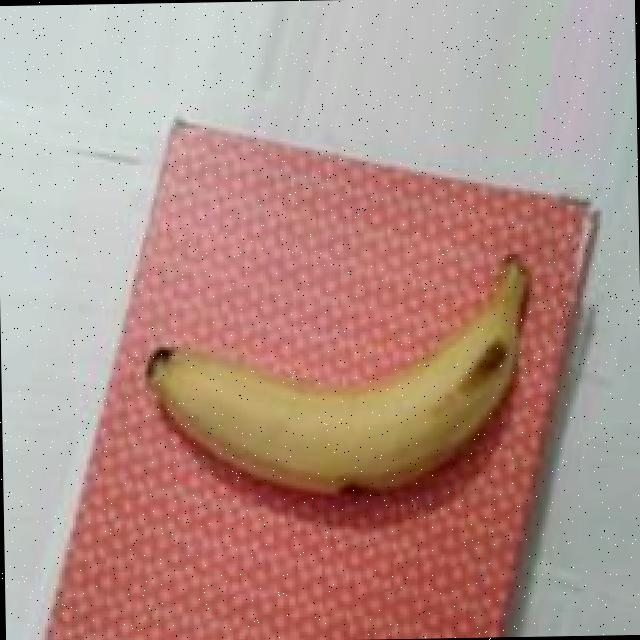banana: (84, 172, 602, 570)
